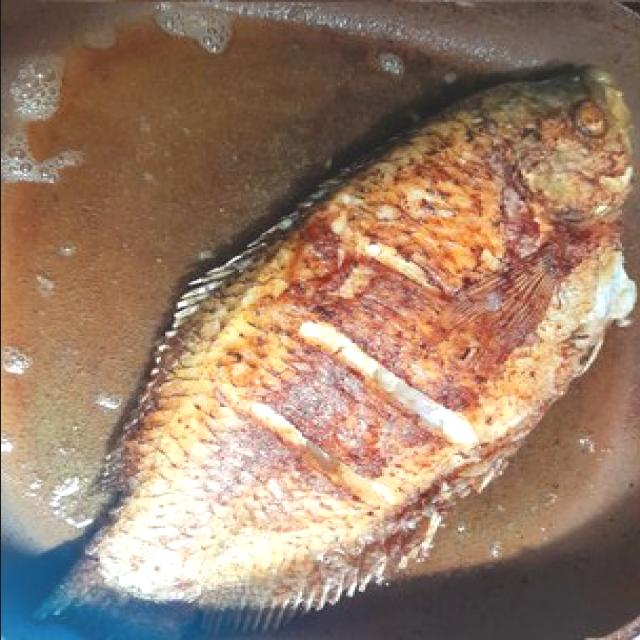ikan goreng: (59, 69, 634, 613)
